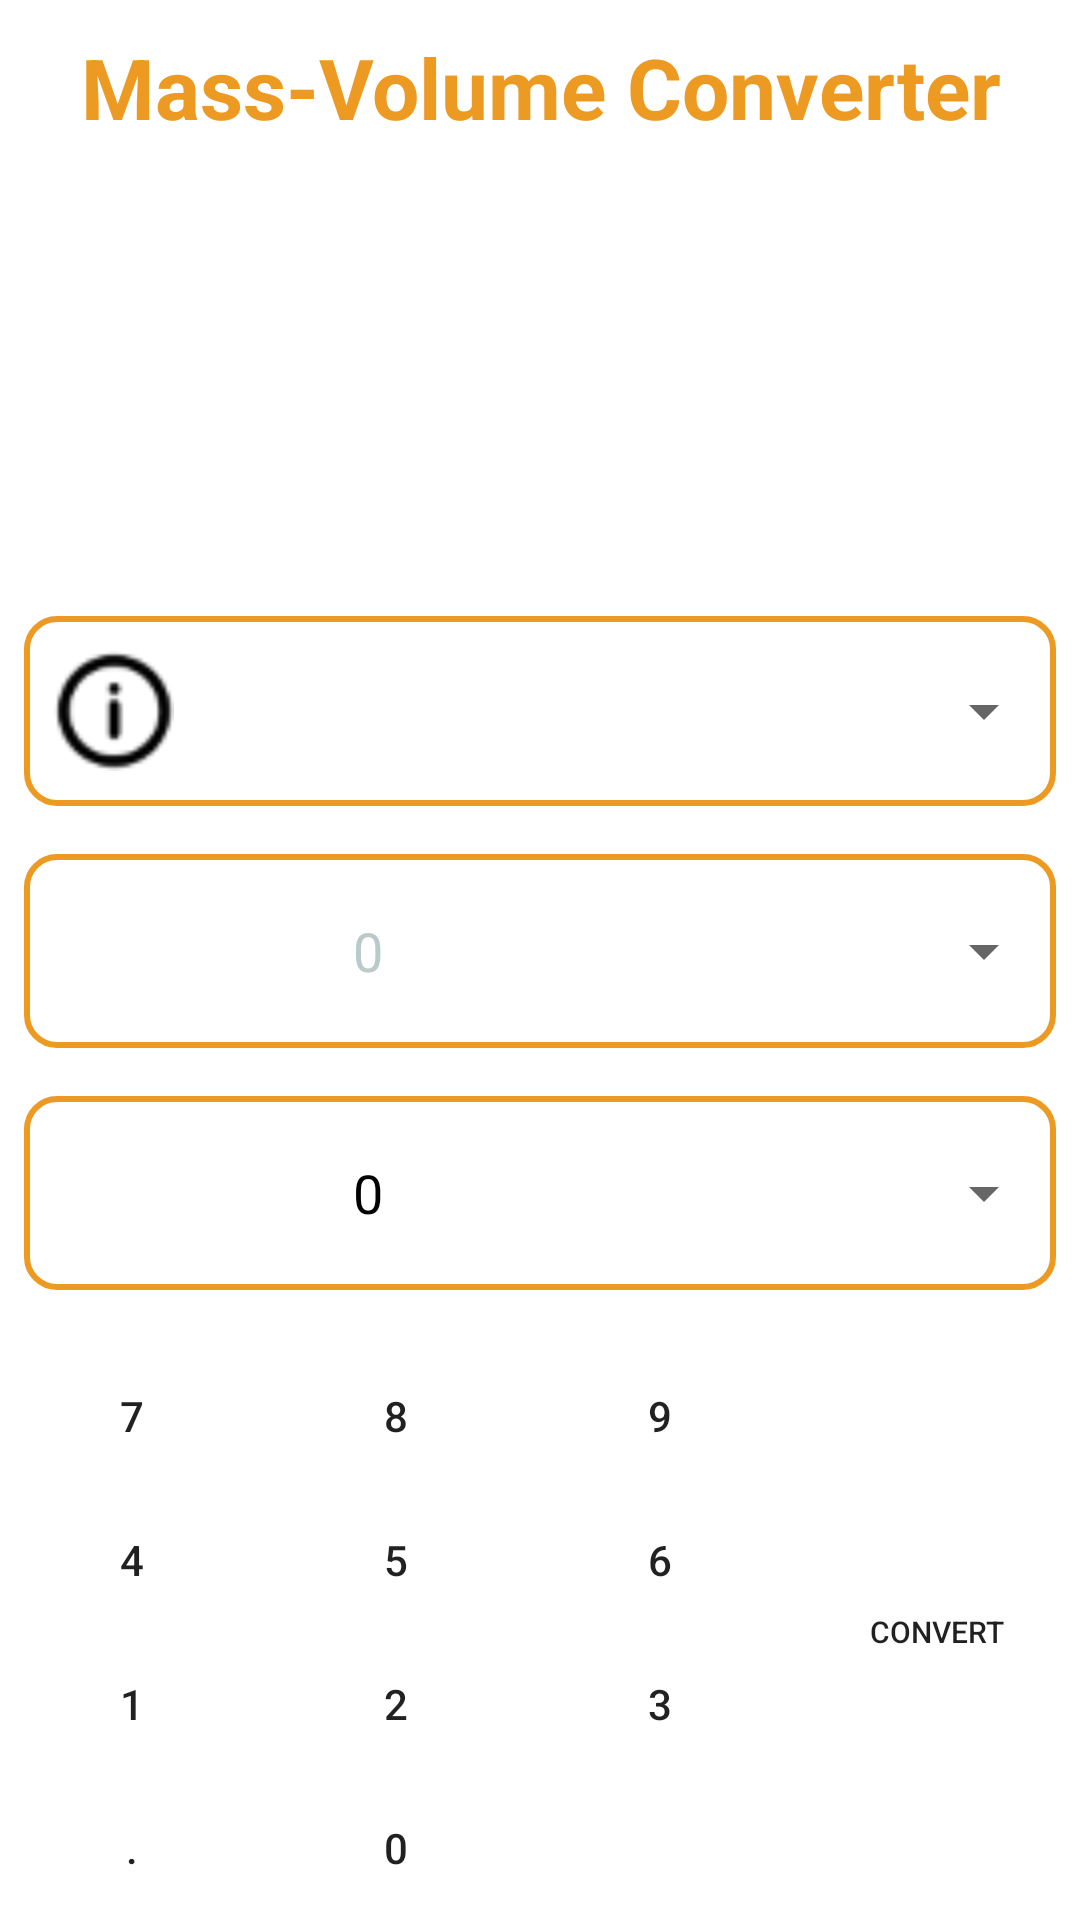

Icon bounding boxes for this 1080*1920 phone screenshot, format bbox=(x1, y1, x2, y2):
info: bbox=(56, 653, 174, 769)
